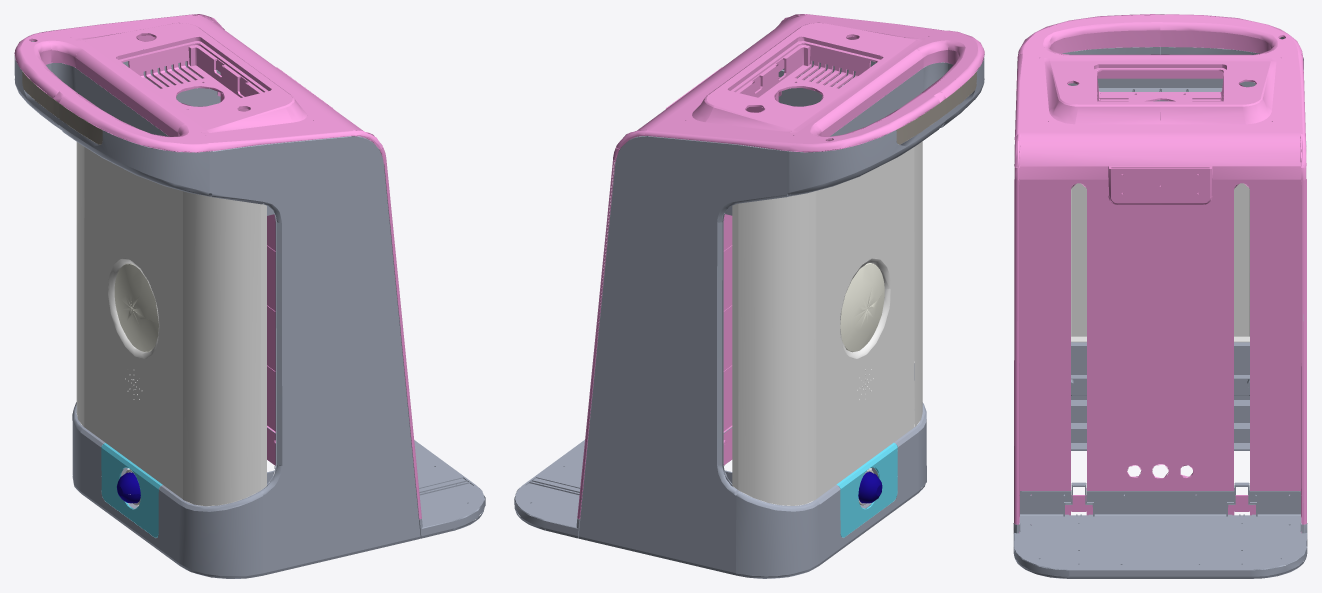
File: ugv_cover.obj
The picture shows the model from 3 angles, left to right: view 1: azimuth 30°, elevation 25°; view 2: azimuth 150°, elevation 25°; view 3: azimuth 270°, elevation 25°; orthographic projection. The views are drawn at different scales.
Parts seen in each view (by area): view 1: cover; view 2: cover; view 3: cover.
Boxes of the visible parts, x1=… form: cover: x1=14, y1=14, x2=485, y2=578; cover: x1=514, y1=14, x2=984, y2=578; cover: x1=1013, y1=14, x2=1307, y2=578.
Bounding box in the file's own units: 0.587 × 0.6867 × 0.4509.
